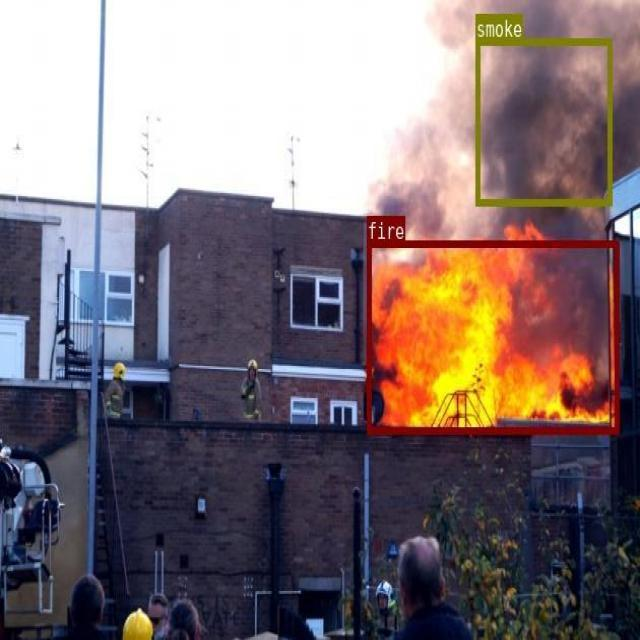fire: (366, 239, 618, 433)
smoke: (475, 38, 611, 204)
